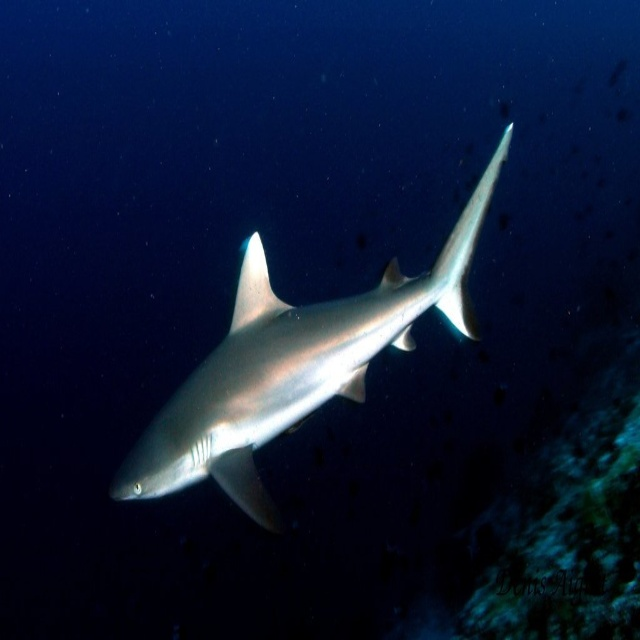Shark: (117, 125, 515, 523)
